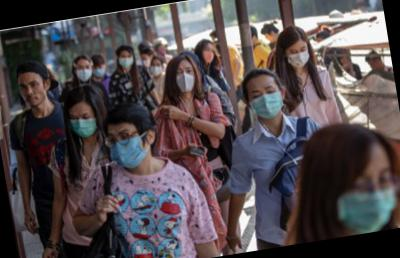with_mask: (328, 162, 400, 235), (105, 125, 150, 172), (246, 82, 286, 122), (68, 109, 99, 140), (285, 44, 312, 70), (174, 64, 197, 94), (74, 62, 94, 83), (200, 44, 216, 65), (117, 52, 134, 70), (149, 61, 164, 77), (92, 63, 107, 78), (140, 55, 152, 68)
without_mask: (18, 77, 48, 109)
